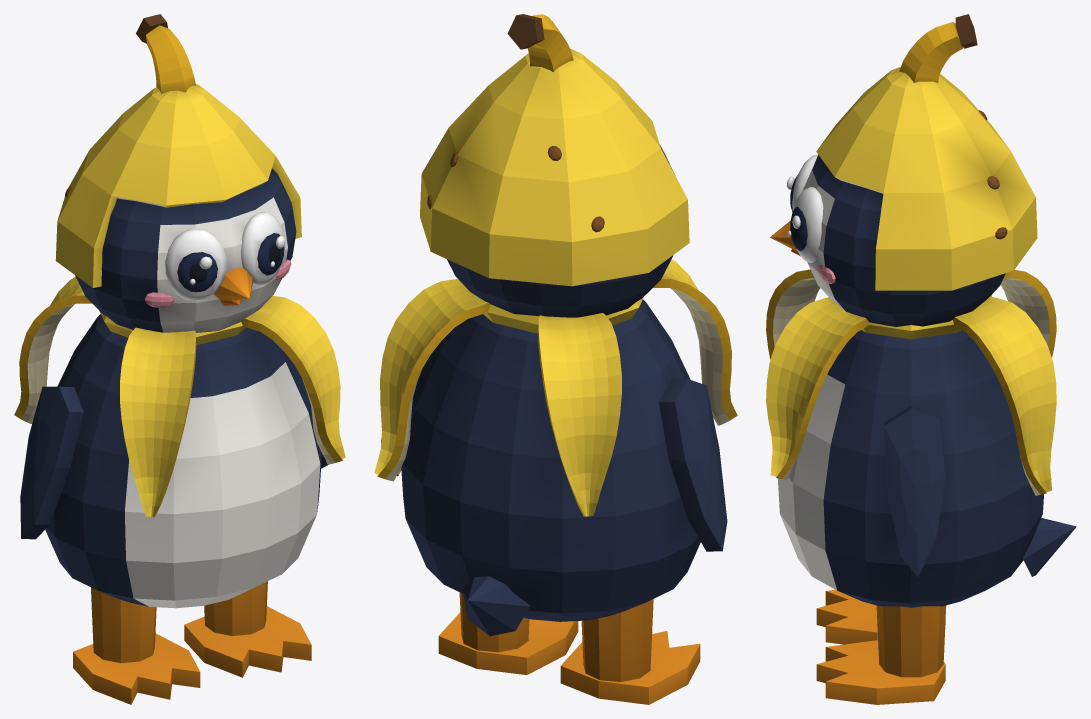
The model's file is skin_bananino.glb.
3 renders of one model, left to right at view 1: azimuth 30°, elevation 25°; view 2: azimuth 150°, elevation 25°; view 3: azimuth 270°, elevation 25°, orthographic. The views are drawn at different scales.
Visible parts, largest first — view 1: Body, Head, LegL, LegR, ArmL, EyeL, EyeR; view 2: Body, Head, LegL, ArmL, LegR; view 3: Body, Head, LegR, ArmR, LegL, EyeR, EyeL.
Boxes of the visible parts, box(x1,y1,x2,y2) form: Body: box(14, 277, 345, 608); Head: box(55, 14, 301, 332); LegL: box(73, 587, 200, 704); LegR: box(184, 581, 311, 677); ArmL: box(20, 386, 83, 539); EyeL: box(165, 229, 226, 300); EyeR: box(241, 211, 285, 285); Body: box(374, 259, 737, 636); Head: box(420, 14, 689, 317); LegL: box(560, 599, 700, 704); ArmL: box(658, 379, 727, 551); LegR: box(438, 592, 578, 674); Body: box(766, 269, 1076, 607); Head: box(770, 14, 1037, 326); LegR: box(816, 605, 946, 704); ArmR: box(884, 406, 945, 576); LegL: box(816, 589, 945, 644); EyeR: box(787, 187, 823, 262); EyeL: box(787, 154, 817, 211).
Bounding box in the file's own units: 3.24 × 6.13 × 2.72.
